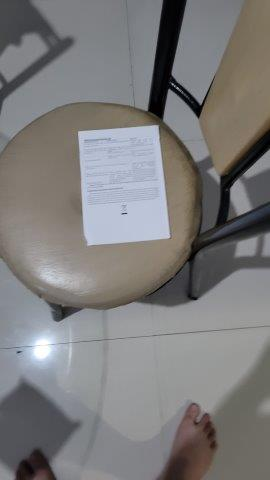kertas: (76, 124, 170, 243)
